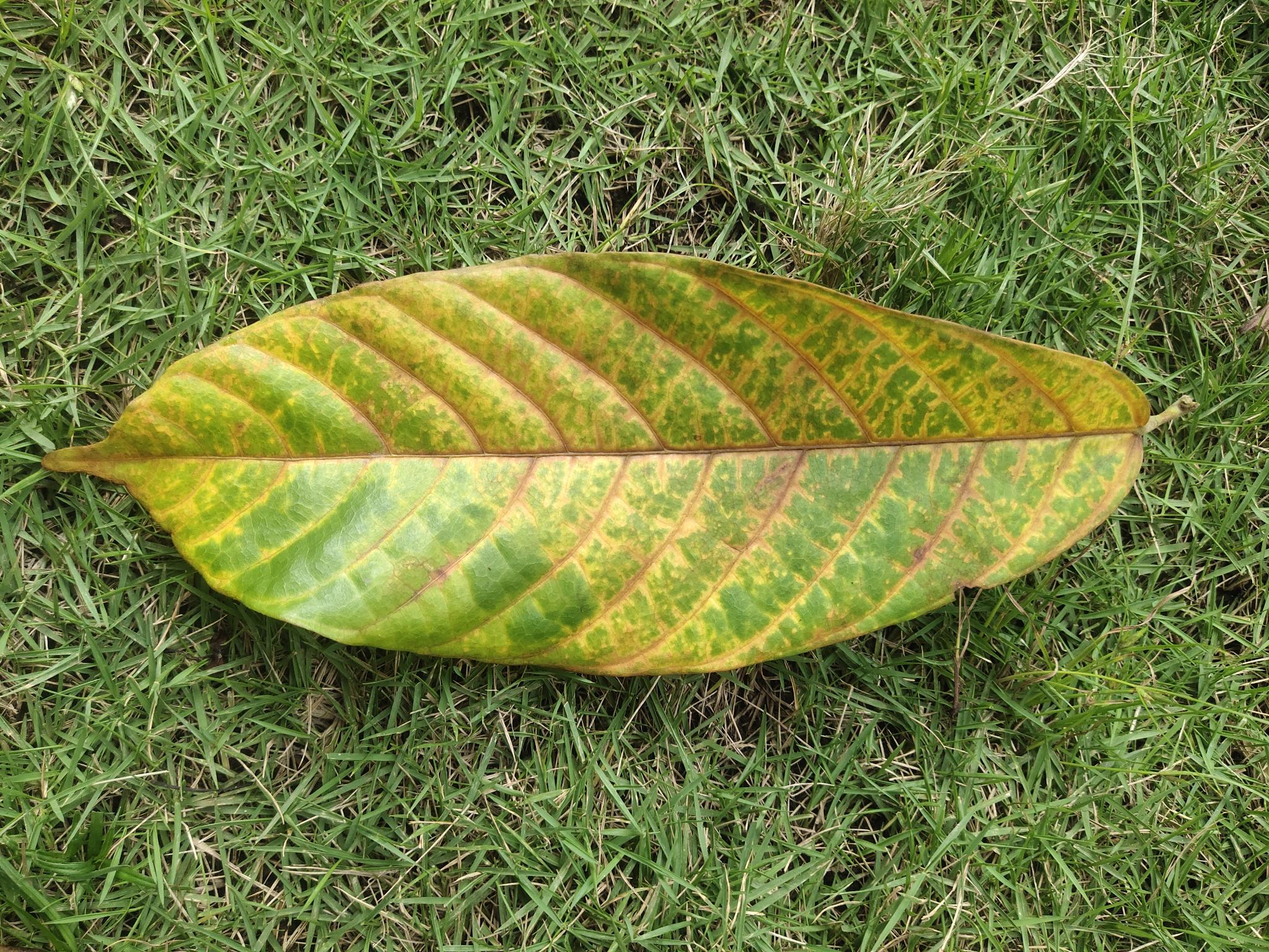Fosforo: (30, 252, 1159, 676)
